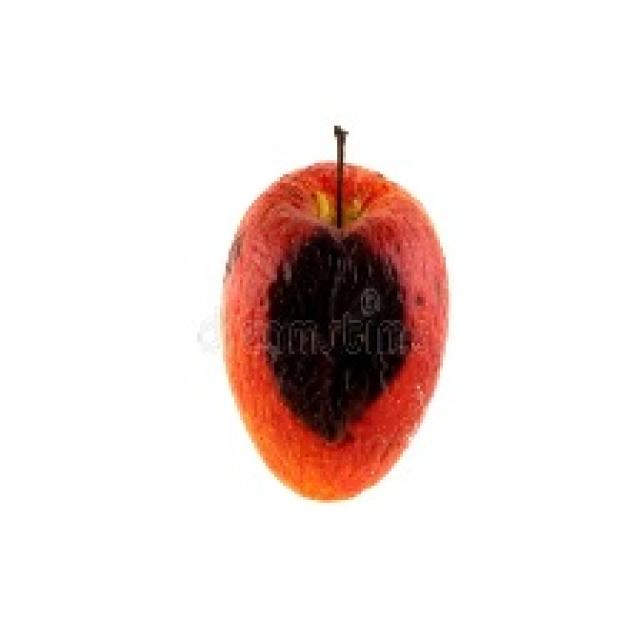rotten_apple: (224, 165, 446, 499)
